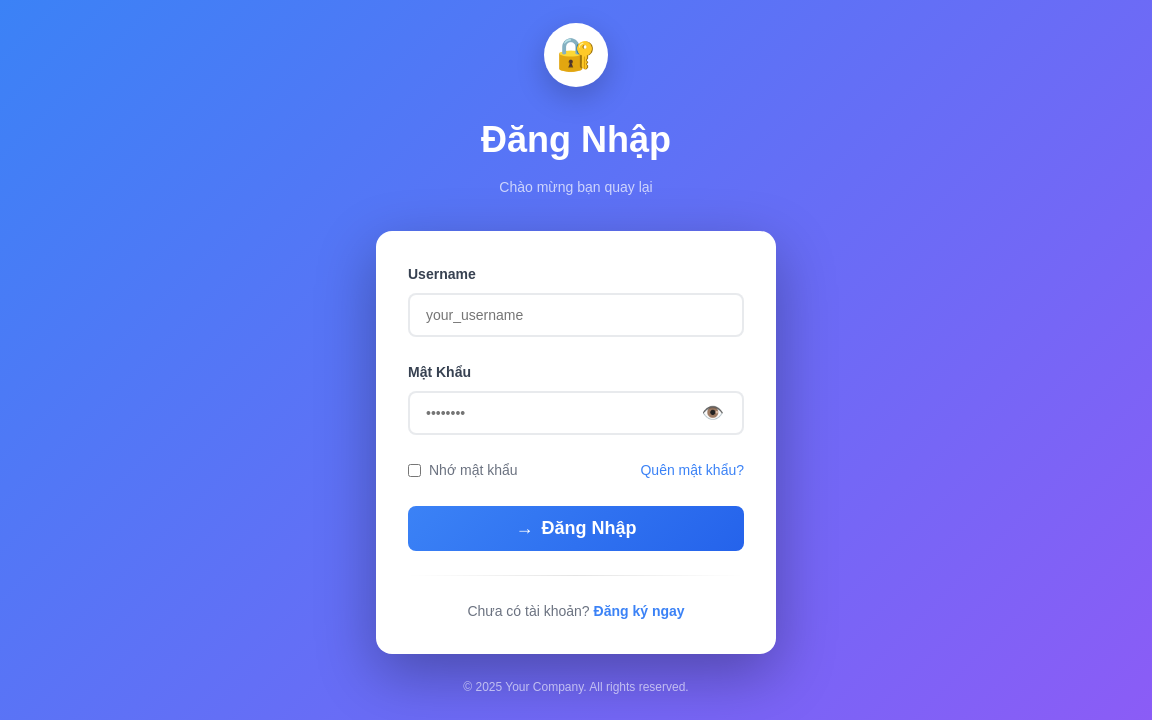
Test: Login - Integration Testing › Test 3: Error Handling và Success Messages › nên hiển thị error khi username không hợp lệ
Type "ab" into the field with placeholder "your_username".
click(576, 315); type("ab")  # box [408, 293, 744, 337]
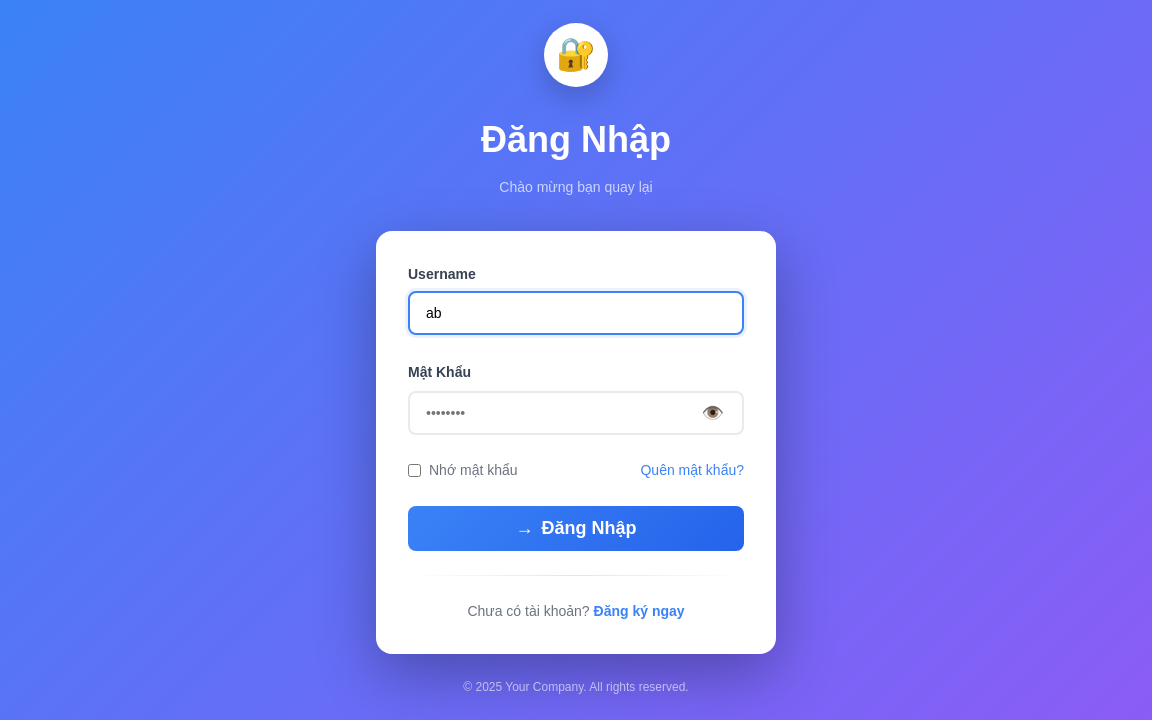
Type "password123" into the password field with placeholder "••••••••".
click(576, 413); type("password123")  # box [408, 391, 744, 435]
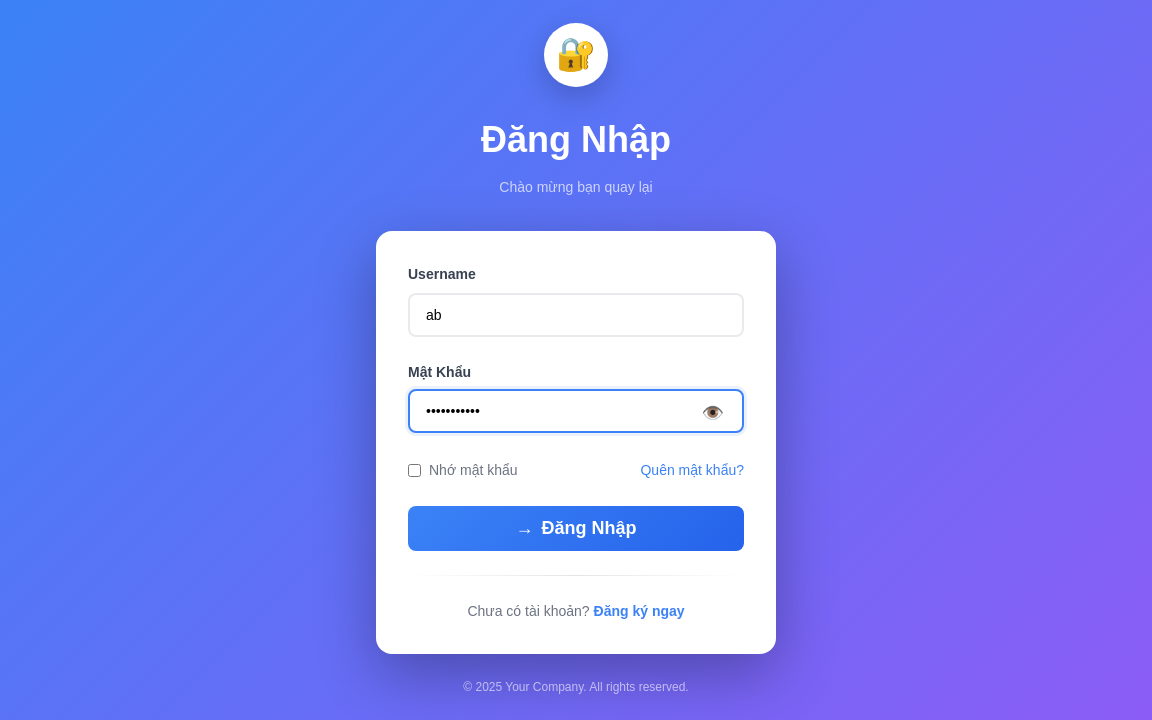
Click the button "→ Đăng Nhập".
click(576, 528)  # box [408, 506, 744, 551]
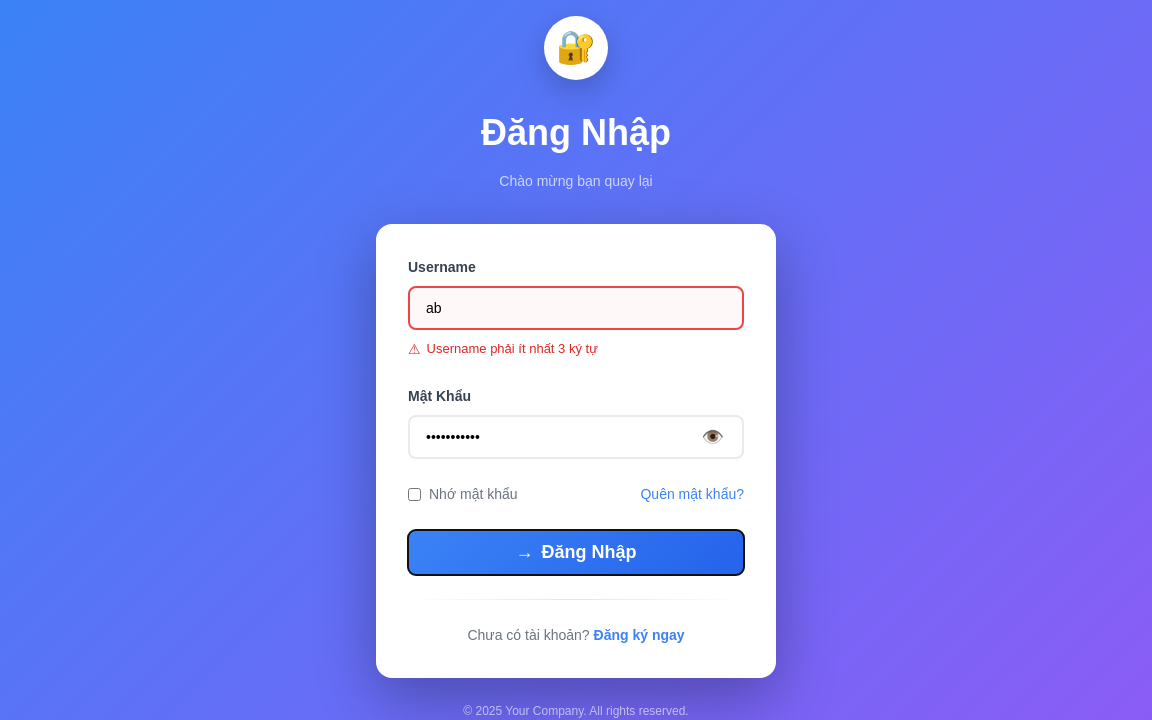
Result: the text "⚠ Username phải ít nhất 3 ký tự" is shown at [408, 341, 598, 357]
